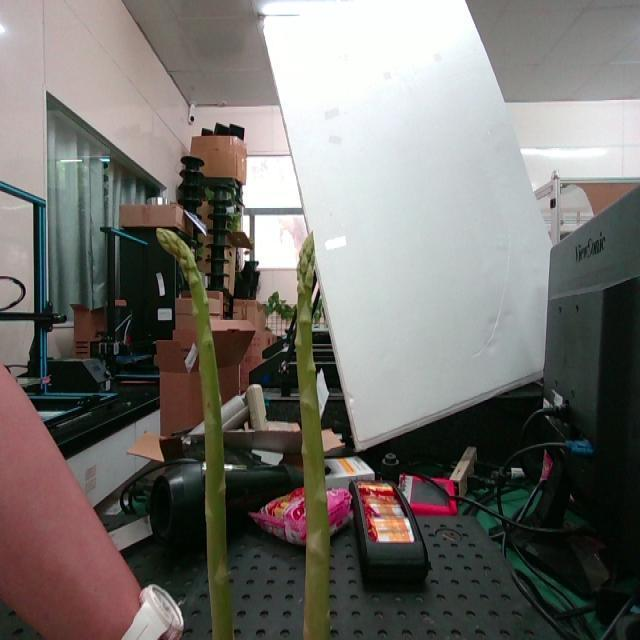aspargus: (155, 227, 229, 640), (294, 236, 329, 640)
